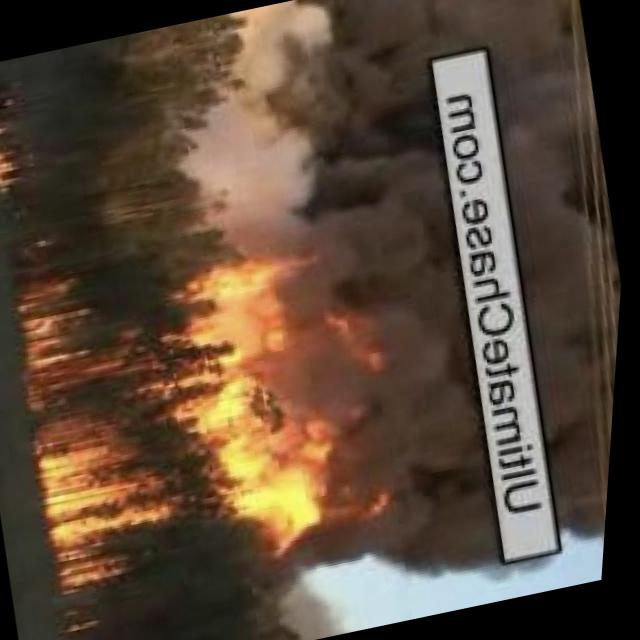Fire: (0, 216, 416, 588), (0, 110, 38, 195)
